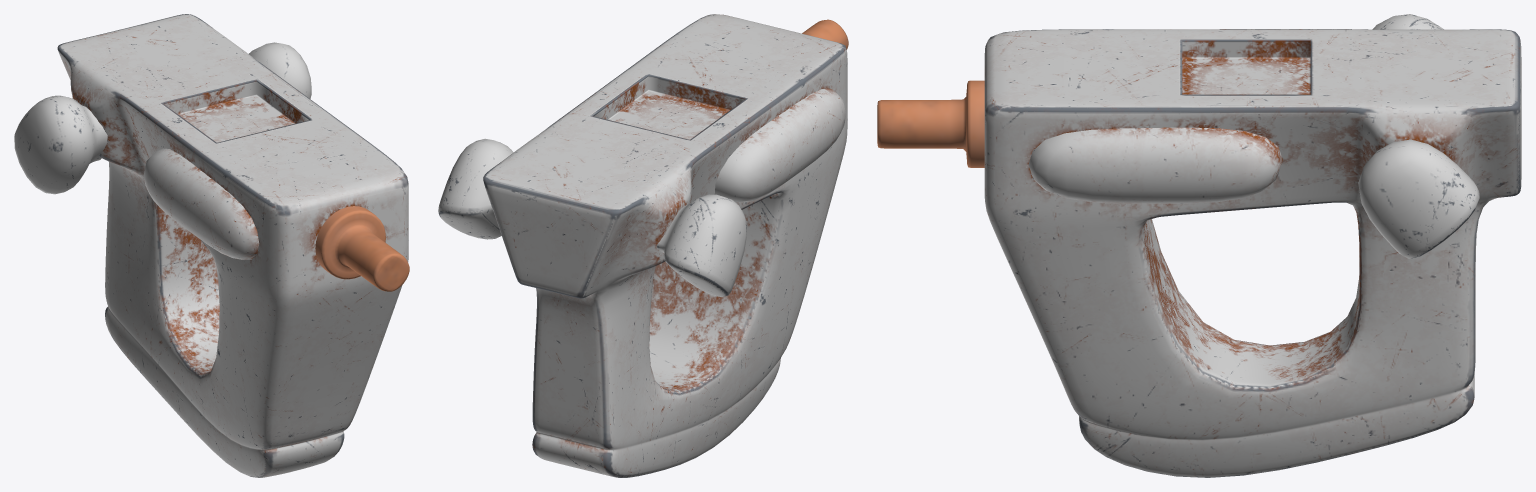
The model's file is last_tool.gltf.
The picture shows the model from 3 angles, left to right: view 1: azimuth 30°, elevation 25°; view 2: azimuth 150°, elevation 25°; view 3: azimuth 270°, elevation 25°; orthographic projection. The views are drawn at different scales.
Parts seen in each view (by area): view 1: Body, Vents, Muzzle; view 2: Body, Vents, Muzzle; view 3: Body, Vents, Muzzle.
Part boxes in pixels (<box>): Body: <box>57,14,408,477</box>; Vents: <box>14,42,311,194</box>; Muzzle: <box>315,206,409,291</box>; Body: <box>483,14,847,477</box>; Vents: <box>438,138,746,297</box>; Muzzle: <box>802,19,848,49</box>; Body: <box>984,29,1521,477</box>; Vents: <box>1358,14,1479,258</box>; Muzzle: <box>877,80,984,167</box>.
Size of the model in its own units: 0.4977 by 0.5891 by 0.8658.
3 materials, 3 textured.
